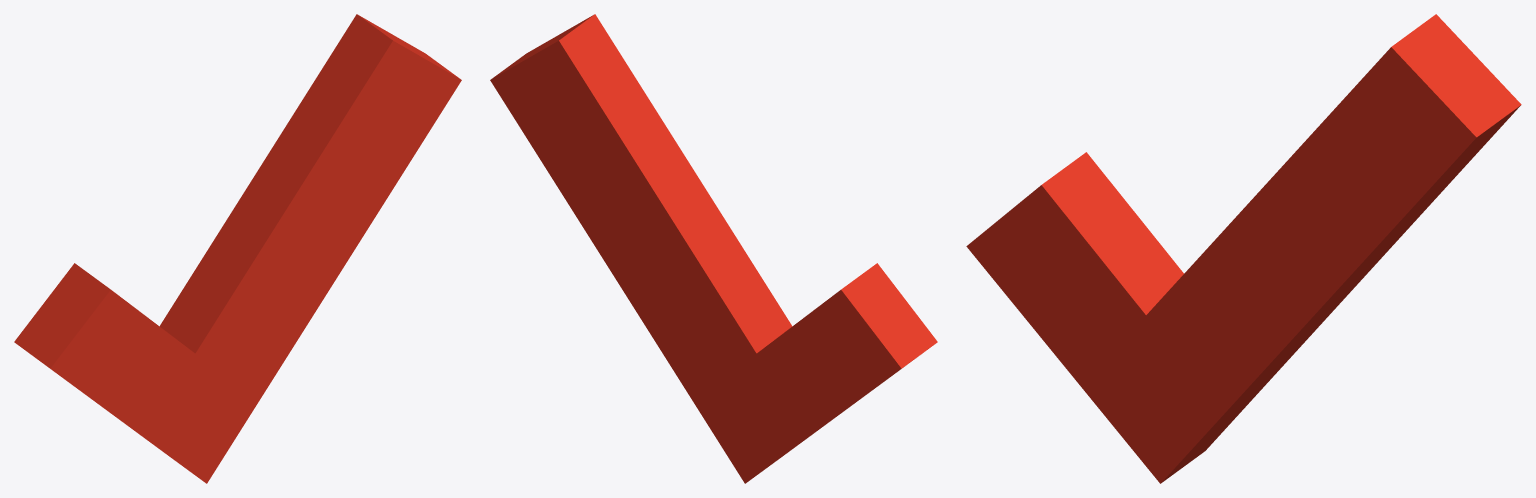
The model's file is Icon_CheckMark.fbx.
3 renders of one model, left to right at view 1: azimuth 30°, elevation 25°; view 2: azimuth 150°, elevation 25°; view 3: azimuth 330°, elevation 25°, orthographic. The views are drawn at different scales.
Visible parts, largest first — view 1: Icon_CheckMark; view 2: Icon_CheckMark; view 3: Icon_CheckMark.
Part boxes in pixels (bbox=[...]): Icon_CheckMark: bbox=[14, 14, 461, 483]; Icon_CheckMark: bbox=[490, 14, 937, 483]; Icon_CheckMark: bbox=[966, 14, 1521, 483].
Size of the model in its own units: 78.92 by 72.92 by 12.06.
